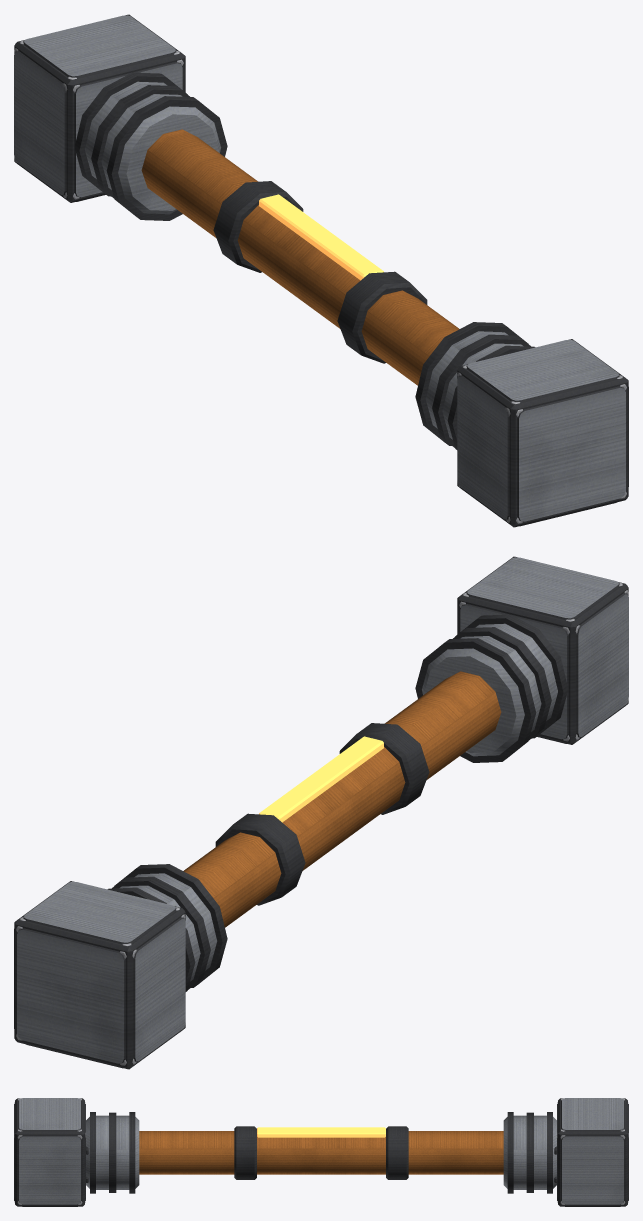
File: R4C_ROD_STANDARD.glb
The picture shows the model from 3 angles, top to bottom: view 1: azimuth 30°, elevation 25°; view 2: azimuth 150°, elevation 25°; view 3: azimuth 270°, elevation 25°; orthographic projection. The views are drawn at different scales.
Visible parts, largest first — view 1: R4C_ROD_STANDARD; view 2: R4C_ROD_STANDARD; view 3: R4C_ROD_STANDARD.
Boxes of the visible parts, bbox=[...] form: R4C_ROD_STANDARD: bbox=[14, 14, 628, 527]; R4C_ROD_STANDARD: bbox=[14, 556, 628, 1069]; R4C_ROD_STANDARD: bbox=[14, 1098, 628, 1206].
Size of the model in its own units: 0.226 by 0.224 by 1.62.
Materials: 5 (4 with a texture image).
